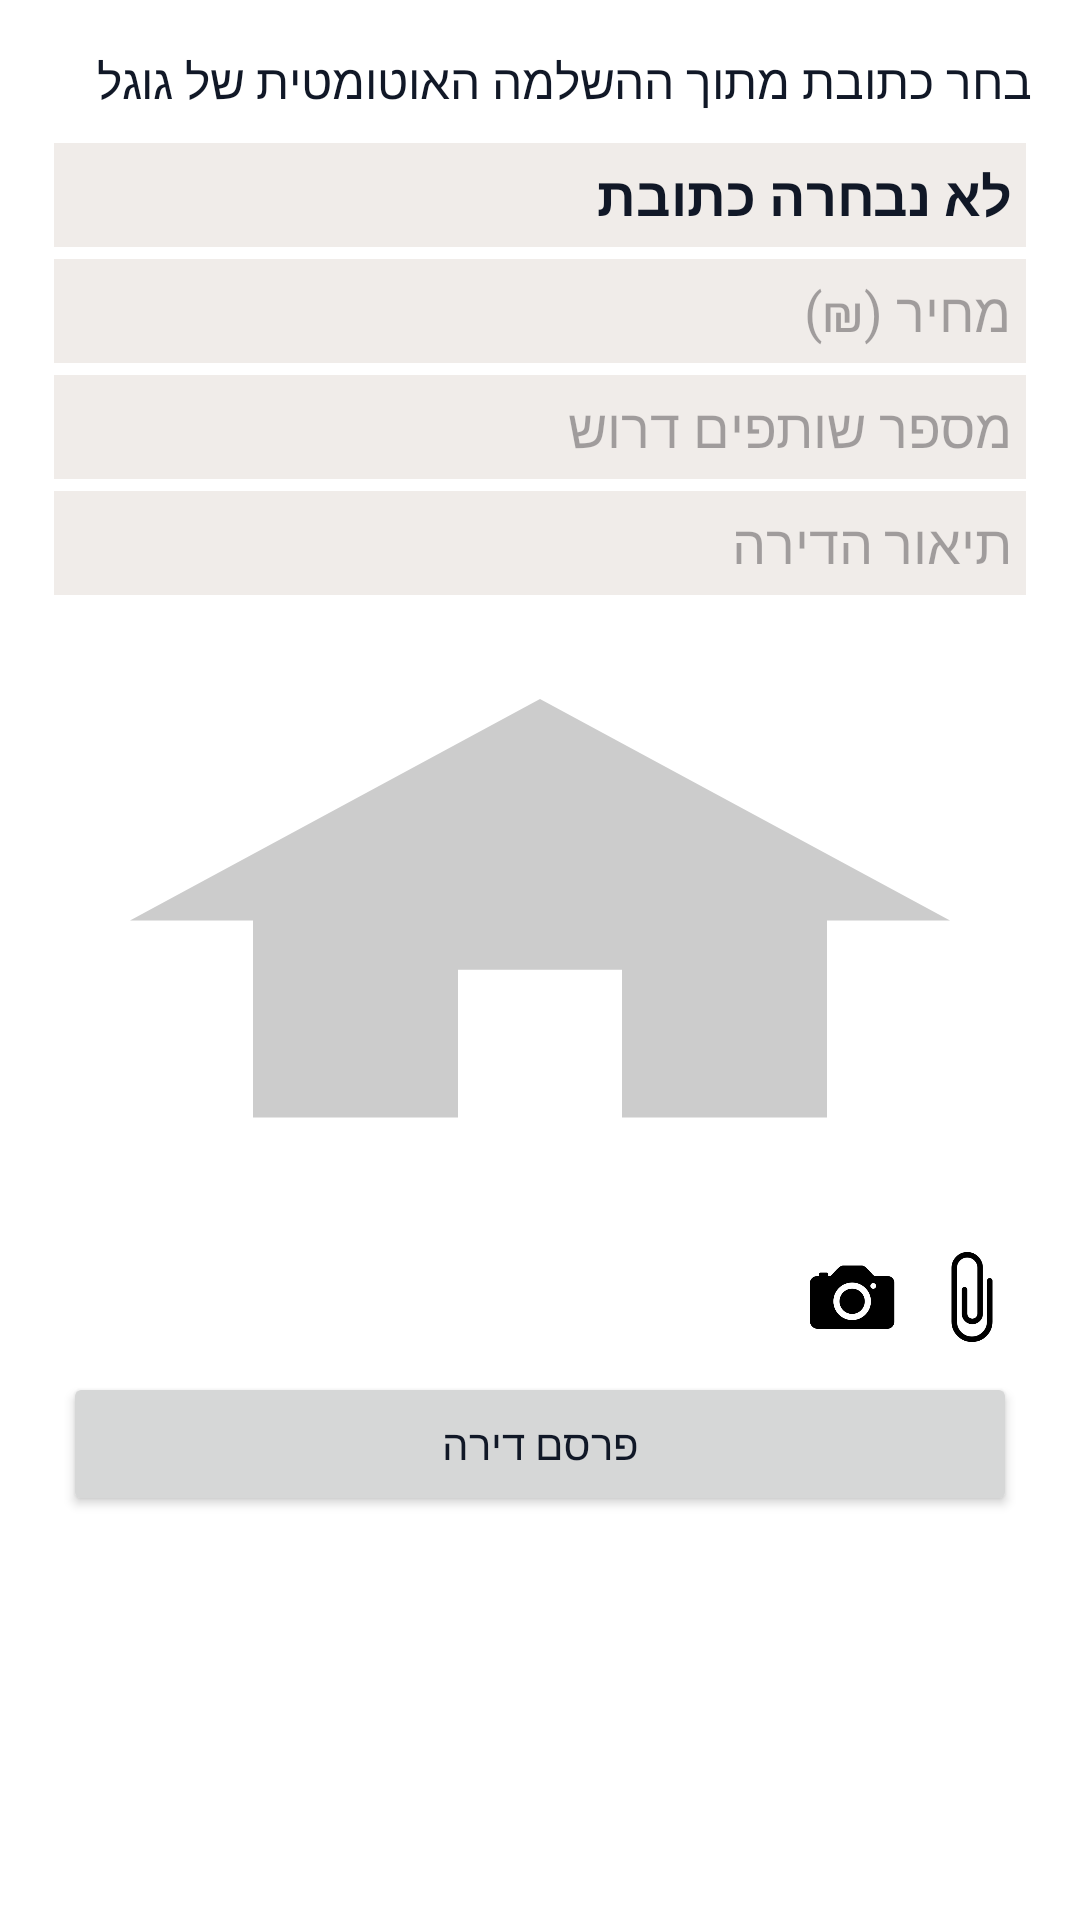

Icon click points for this 1080 × 1920 phone screenshot, format [x,y]:
camera: [852,1297]
files: [972,1297]
